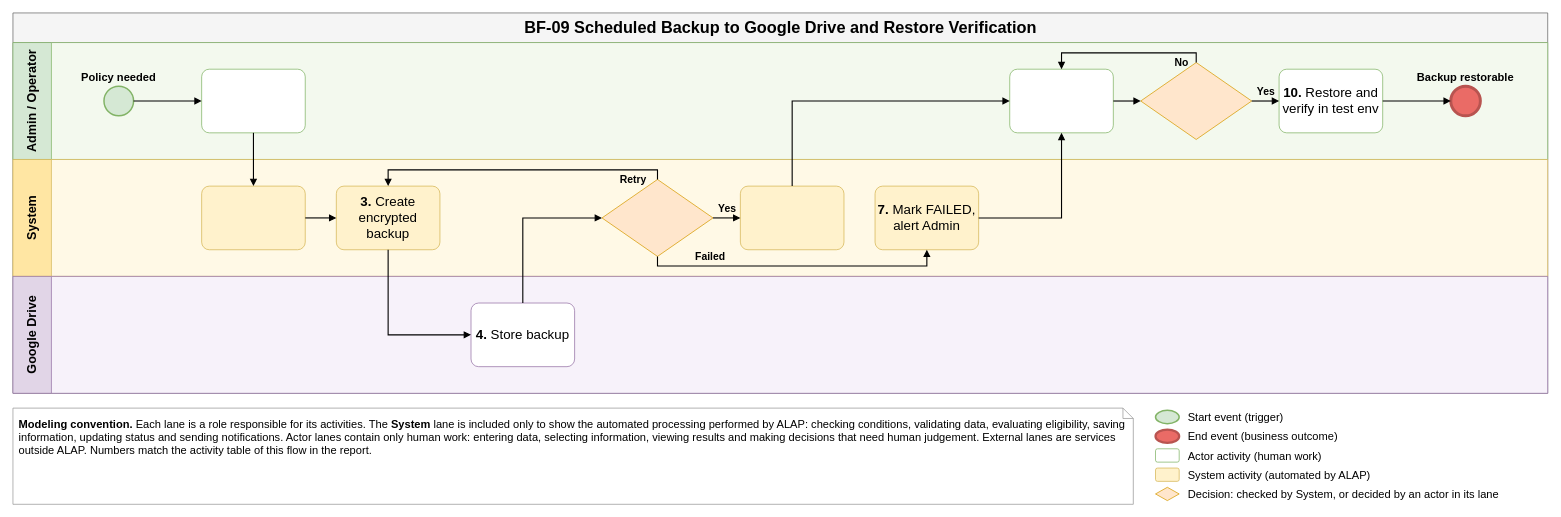
Image size: 1561x517. Some labels were removed from this diagram. The centre of each missing label's shape, as x and y in pixels:
"1. Set schedule and retention" goes at point 253,100.
"2. Save policy" goes at point 253,217.
"5. Backup verified?" goes at point 657,217.
"6. Mark SUCCESS" goes at point 792,217.
"8. View backup status" goes at point 1061,100.
"9. Test restore?" goes at point 1196,100.
